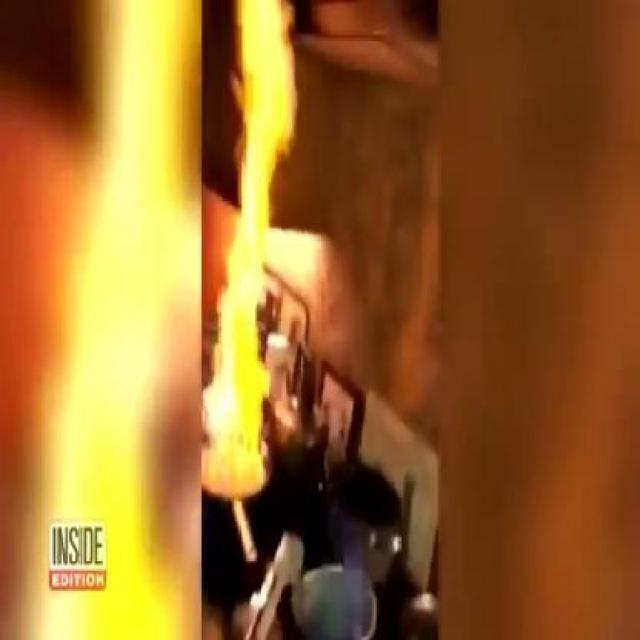fire: (208, 67, 284, 438)
